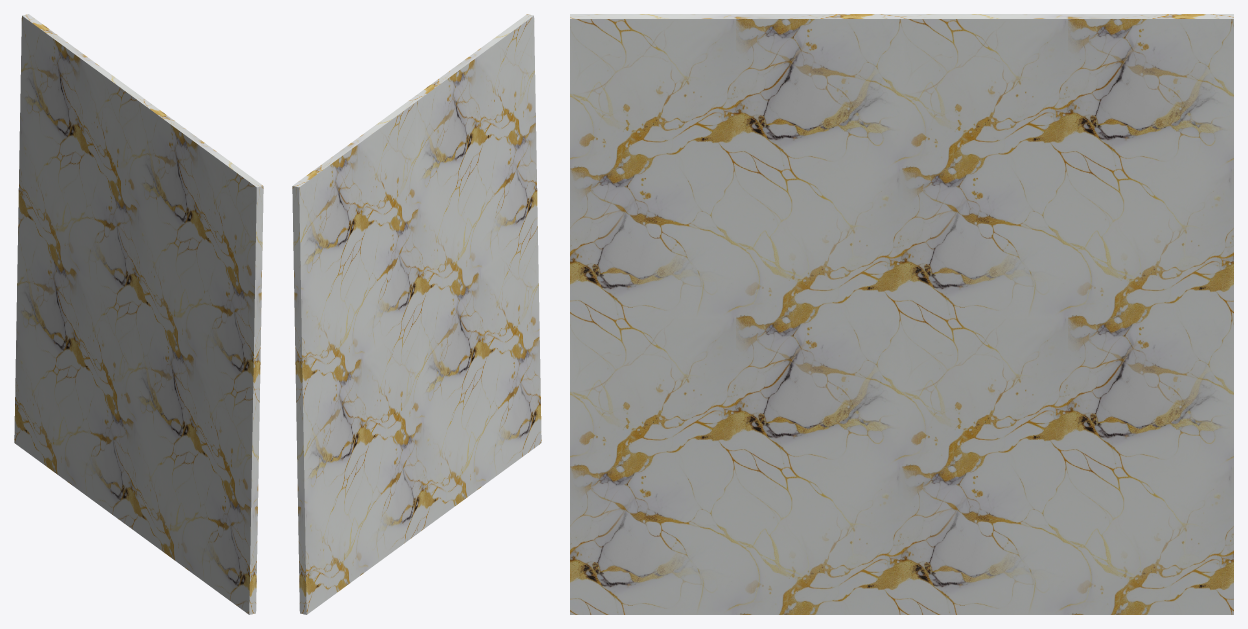
File: LJS - 102 UV Board.glb
The picture shows the model from 3 angles, left to right: view 1: azimuth 30°, elevation 25°; view 2: azimuth 150°, elevation 25°; view 3: azimuth 270°, elevation 25°; orthographic projection. The views are drawn at different scales.
Parts seen in each view (by area): view 1: Plane; view 2: Plane; view 3: Plane.
Boxes of the visible parts, x1=… form: Plane: x1=14, y1=14, x2=263, y2=614; Plane: x1=292, y1=14, x2=541, y2=614; Plane: x1=570, y1=14, x2=1233, y2=614.
Size of the model in its own units: 0.0706 by 2 by 2.
Materials: 1 (1 with a texture image).
